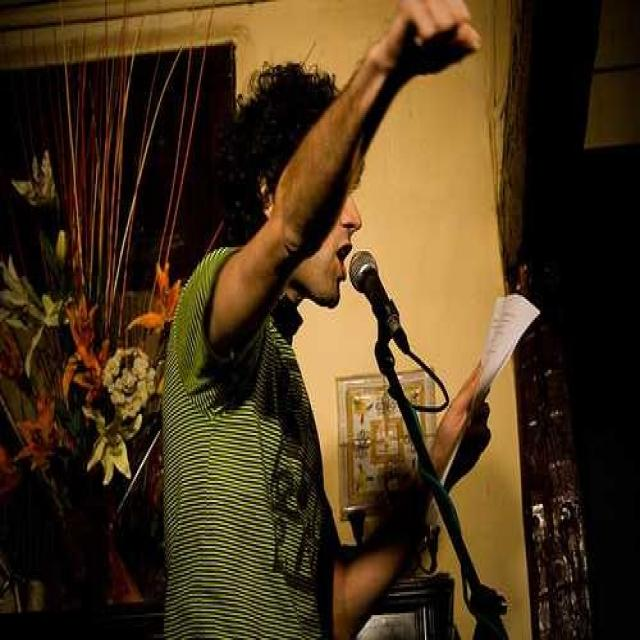microphone: (346, 250, 405, 348)
